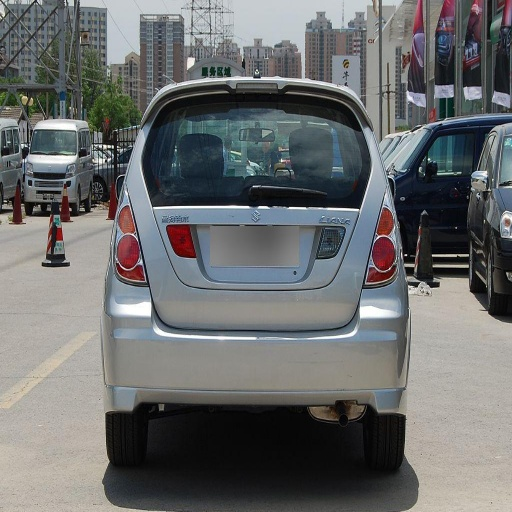back_bumper: (108, 271, 405, 412)
tailgate: (162, 219, 363, 324), (128, 184, 166, 279)
trunk: (154, 194, 377, 293), (161, 296, 283, 325)
